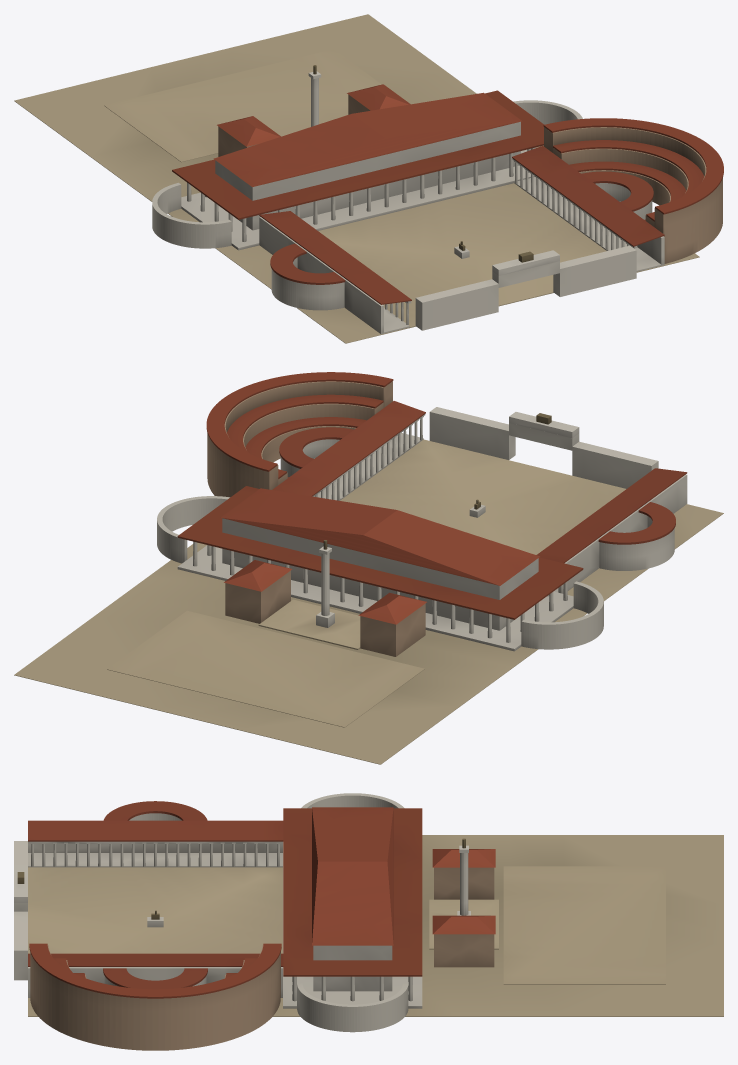
Rendered from forum-of-trajan.glb.
3 renders of one model, top to bottom at view 1: azimuth 30°, elevation 25°; view 2: azimuth 150°, elevation 25°; view 3: azimuth 270°, elevation 25°, orthographic. The views are drawn at different scales.
Parts seen in each view (by area): view 1: p1_markets, p0_plaza, p2_column; view 2: p1_markets, p0_plaza, p2_column; view 3: p1_markets, p0_plaza, p2_column.
Boxes of the visible parts, x1,y1,x2,y2 form: p1_markets: (104, 49, 722, 334); p0_plaza: (14, 14, 699, 343); p2_column: (172, 65, 723, 304); p1_markets: (107, 381, 687, 727); p0_plaza: (14, 439, 723, 764); p2_column: (177, 372, 687, 627); p1_markets: (14, 793, 665, 1050); p0_plaza: (28, 835, 723, 1016); p2_column: (14, 801, 495, 998).
Size of the model in its own units: 237 by 41.29 by 306.
